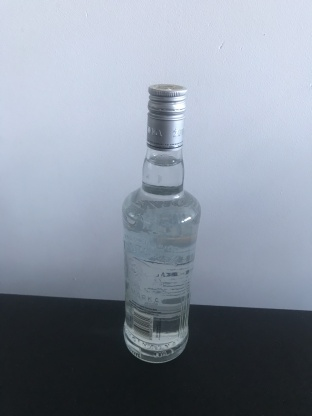nakretka: (146, 80, 188, 152)
